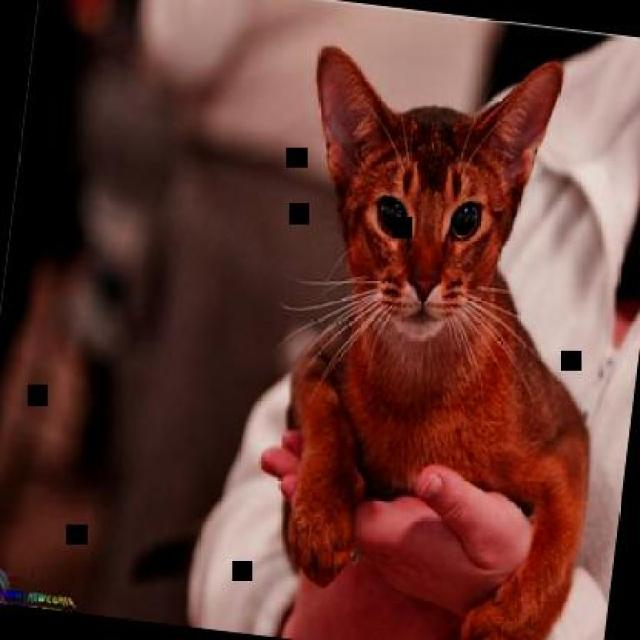cat: (244, 27, 638, 638)
